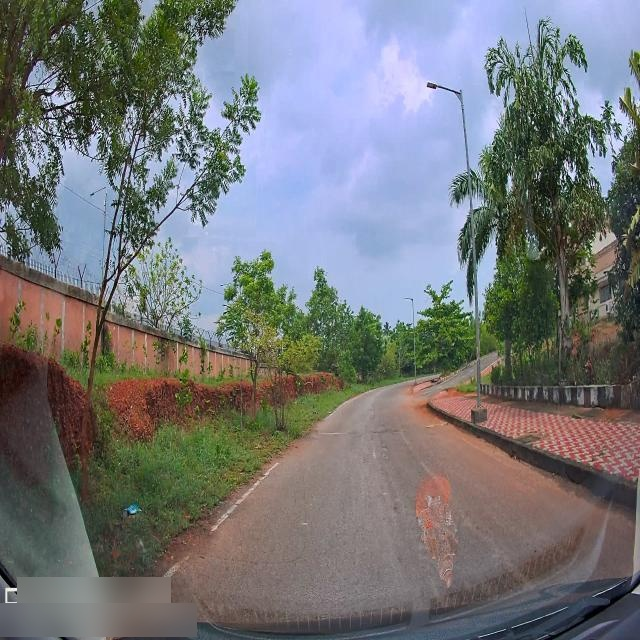pothole: (380, 441, 391, 471), (378, 422, 388, 436), (368, 402, 374, 423)
